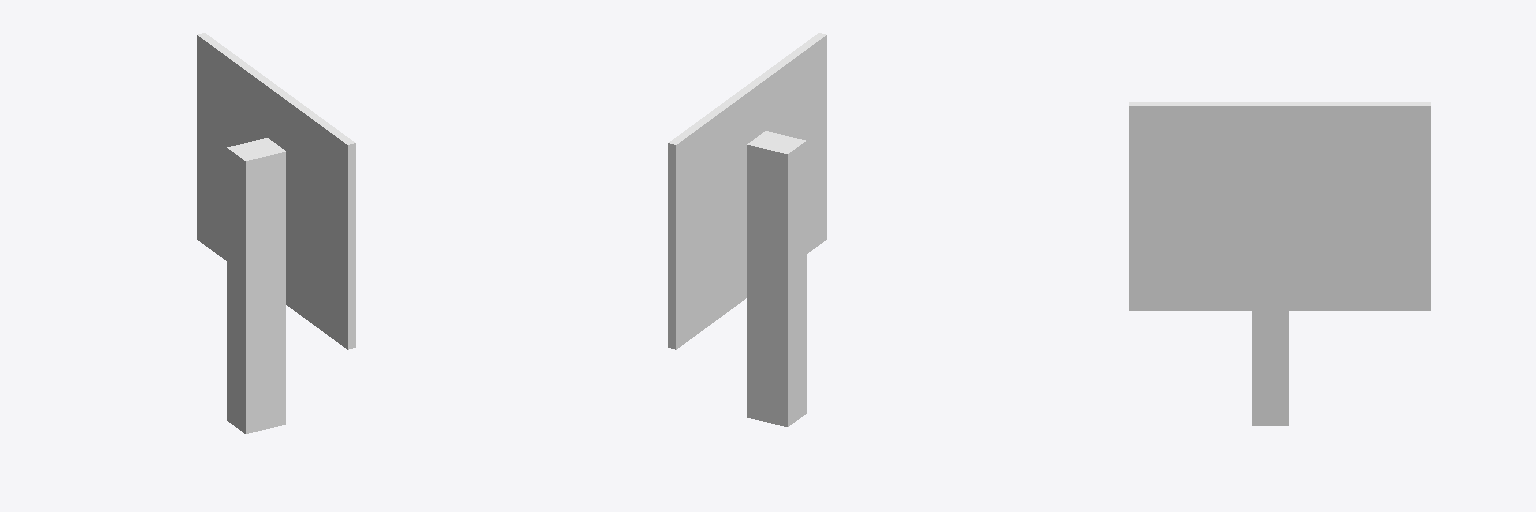
Rendered from Sign_3.obj.
The picture shows the model from 3 angles: view 1: azimuth 30°, elevation 25°; view 2: azimuth 150°, elevation 25°; view 3: azimuth 270°, elevation 25°; orthographic projection.
Bounding box in the file's own units: 6 × 38 × 32.